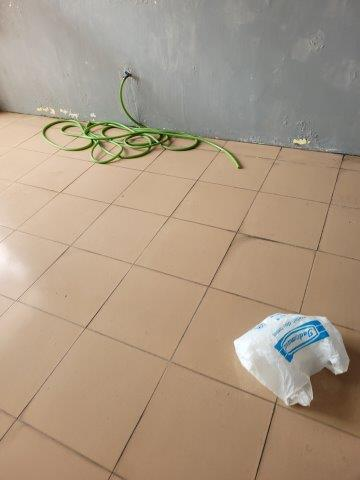plastik: (233, 310, 349, 411)
